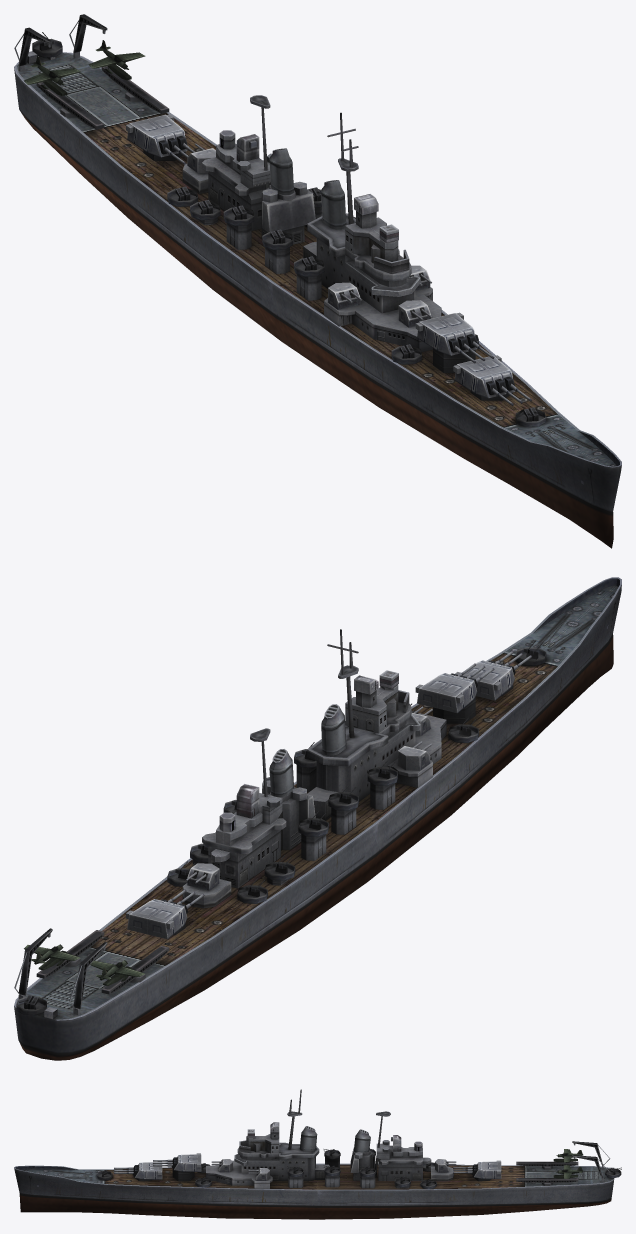
The model's file is Baltimore.fbx.
The picture shows the model from 3 angles, top to bottom: view 1: azimuth 30°, elevation 25°; view 2: azimuth 150°, elevation 25°; view 3: azimuth 270°, elevation 25°; orthographic projection. The views are drawn at different scales.
Visible parts, largest first — view 1: Body, M_Cannon02, M_Cannon03, M_Cannon01, S_Cannon03; view 2: Body, M_Cannon02, M_Cannon03, M_Cannon01, S_Cannon04, S_Cannon03; view 3: Body, M_Cannon02, M_Cannon03, M_Cannon01, S_Cannon01, S_Cannon04.
Part boxes in pixels (<box>): Body: <box>14,14,621,548</box>; M_Cannon02: <box>415,312,477,355</box>; M_Cannon03: <box>126,114,187,157</box>; M_Cannon01: <box>453,355,514,398</box>; S_Cannon03: <box>328,282,361,309</box>; Body: <box>14,577,621,1060</box>; M_Cannon02: <box>415,673,477,713</box>; M_Cannon03: <box>126,899,187,939</box>; M_Cannon01: <box>455,660,515,700</box>; S_Cannon04: <box>185,863,219,890</box>; S_Cannon03: <box>398,741,431,770</box>; Body: <box>14,1089,621,1219</box>; M_Cannon02: <box>172,1153,201,1171</box>; M_Cannon03: <box>471,1160,501,1178</box>; M_Cannon01: <box>132,1161,162,1179</box>; S_Cannon01: <box>211,1159,232,1172</box>; S_Cannon04: <box>435,1159,456,1172</box>.
Bounding box in the file's own units: 24.11 × 46.35 × 208.
Materials: 1 (1 with a texture image).
